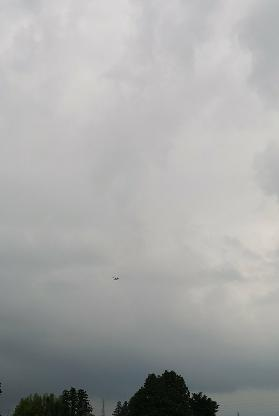Tornado: (111, 275, 118, 280)
